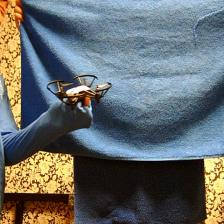drone: (46, 73, 111, 110)
